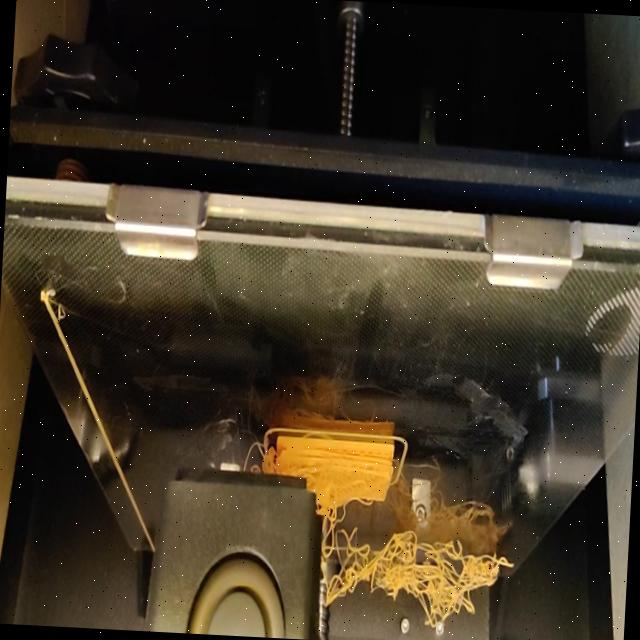spaghetti: (316, 532, 520, 625), (312, 476, 367, 538)
